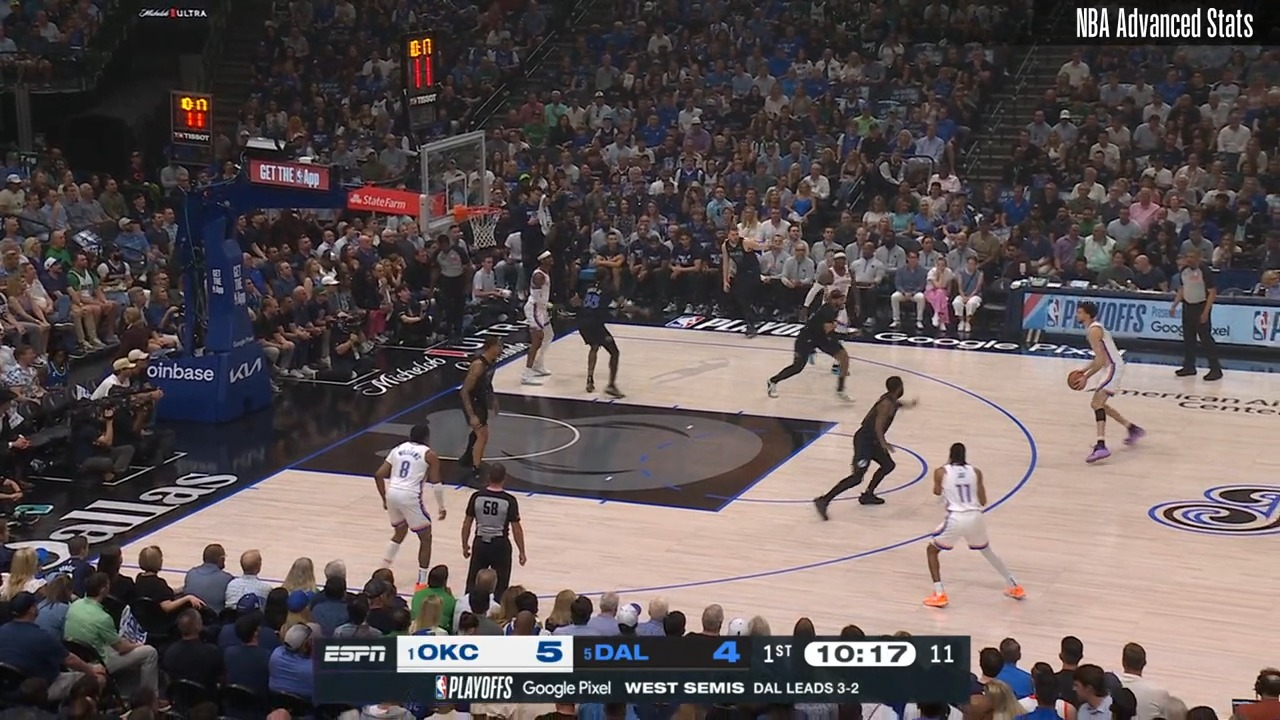basketball: (1067, 369, 1089, 393)
